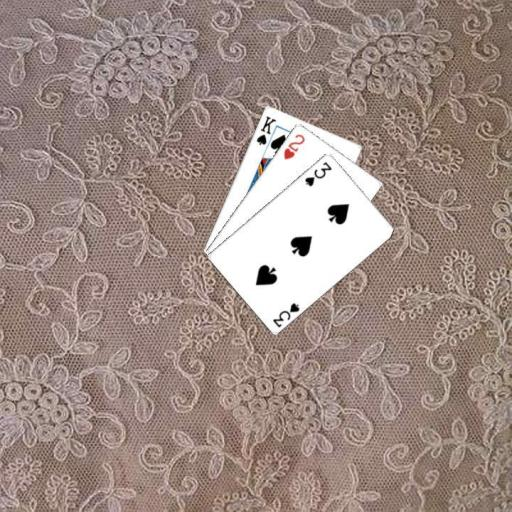2H: (280, 130, 307, 161)
3S: (302, 159, 334, 188), (269, 300, 301, 329)
KS: (253, 113, 277, 147)
